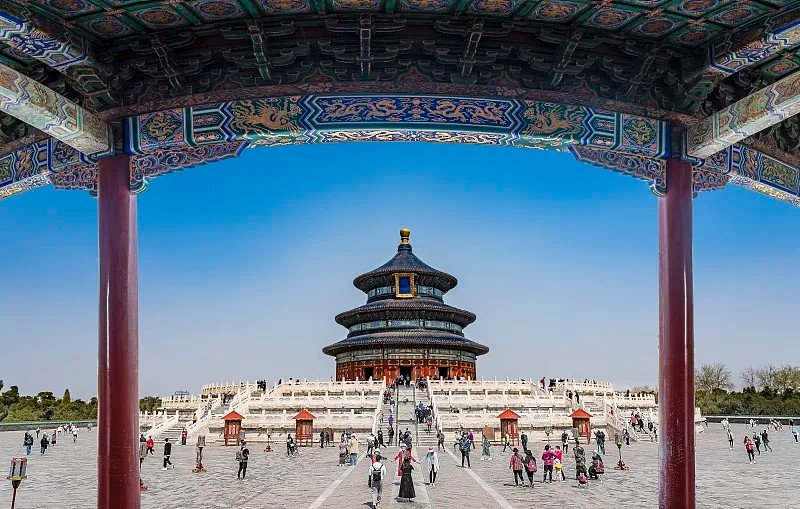Heaven: (322, 226, 490, 380)
